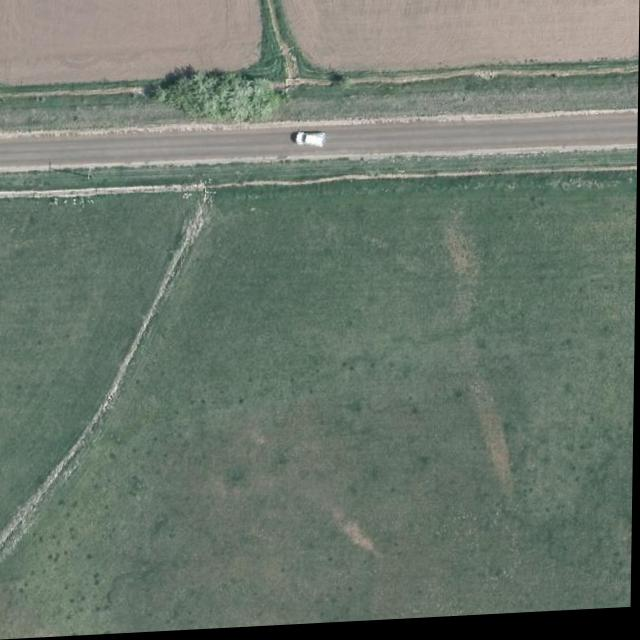vehicle: (297, 135, 328, 150)
